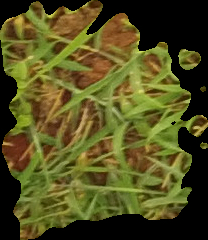grass: (1, 1, 207, 239)
